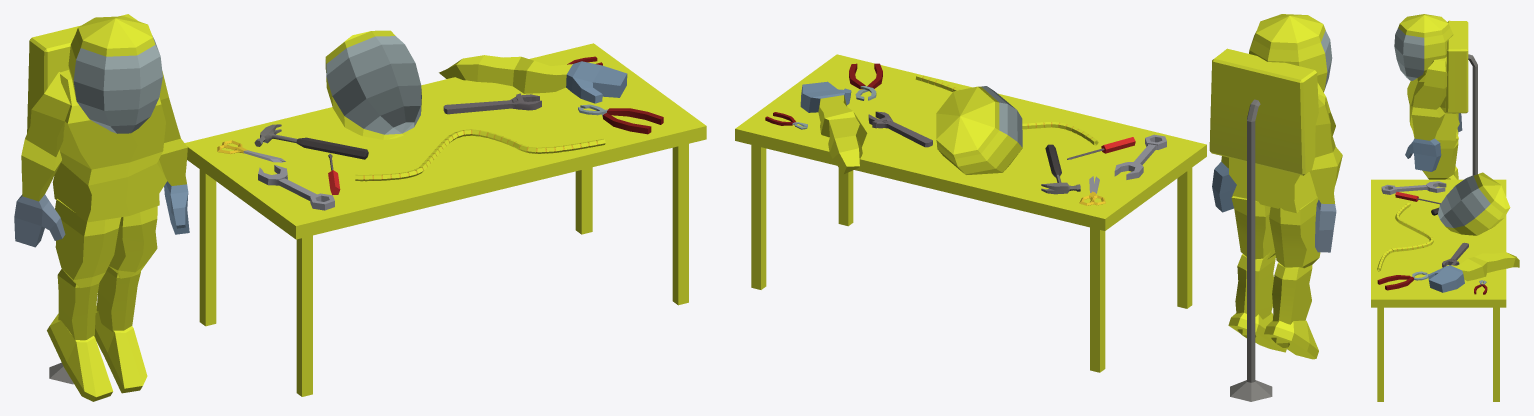
File: g_o_EquipmentContamSuit.fbx
3 renders of one model, left to right at view 1: azimuth 30°, elevation 25°; view 2: azimuth 150°, elevation 25°; view 3: azimuth 270°, elevation 25°, orthographic. The views are drawn at different scales.
Parts seen in each view (by area): view 1: anti_contamination_repairkit; view 2: anti_contamination_repairkit; view 3: anti_contamination_repairkit.
Part boxes in pixels (x1,y1,x2,y2): anti_contamination_repairkit: (14, 14, 706, 401); anti_contamination_repairkit: (735, 14, 1342, 401); anti_contamination_repairkit: (1371, 14, 1519, 401).
Bounding box in the file's own units: 274 × 163 × 94.86.
